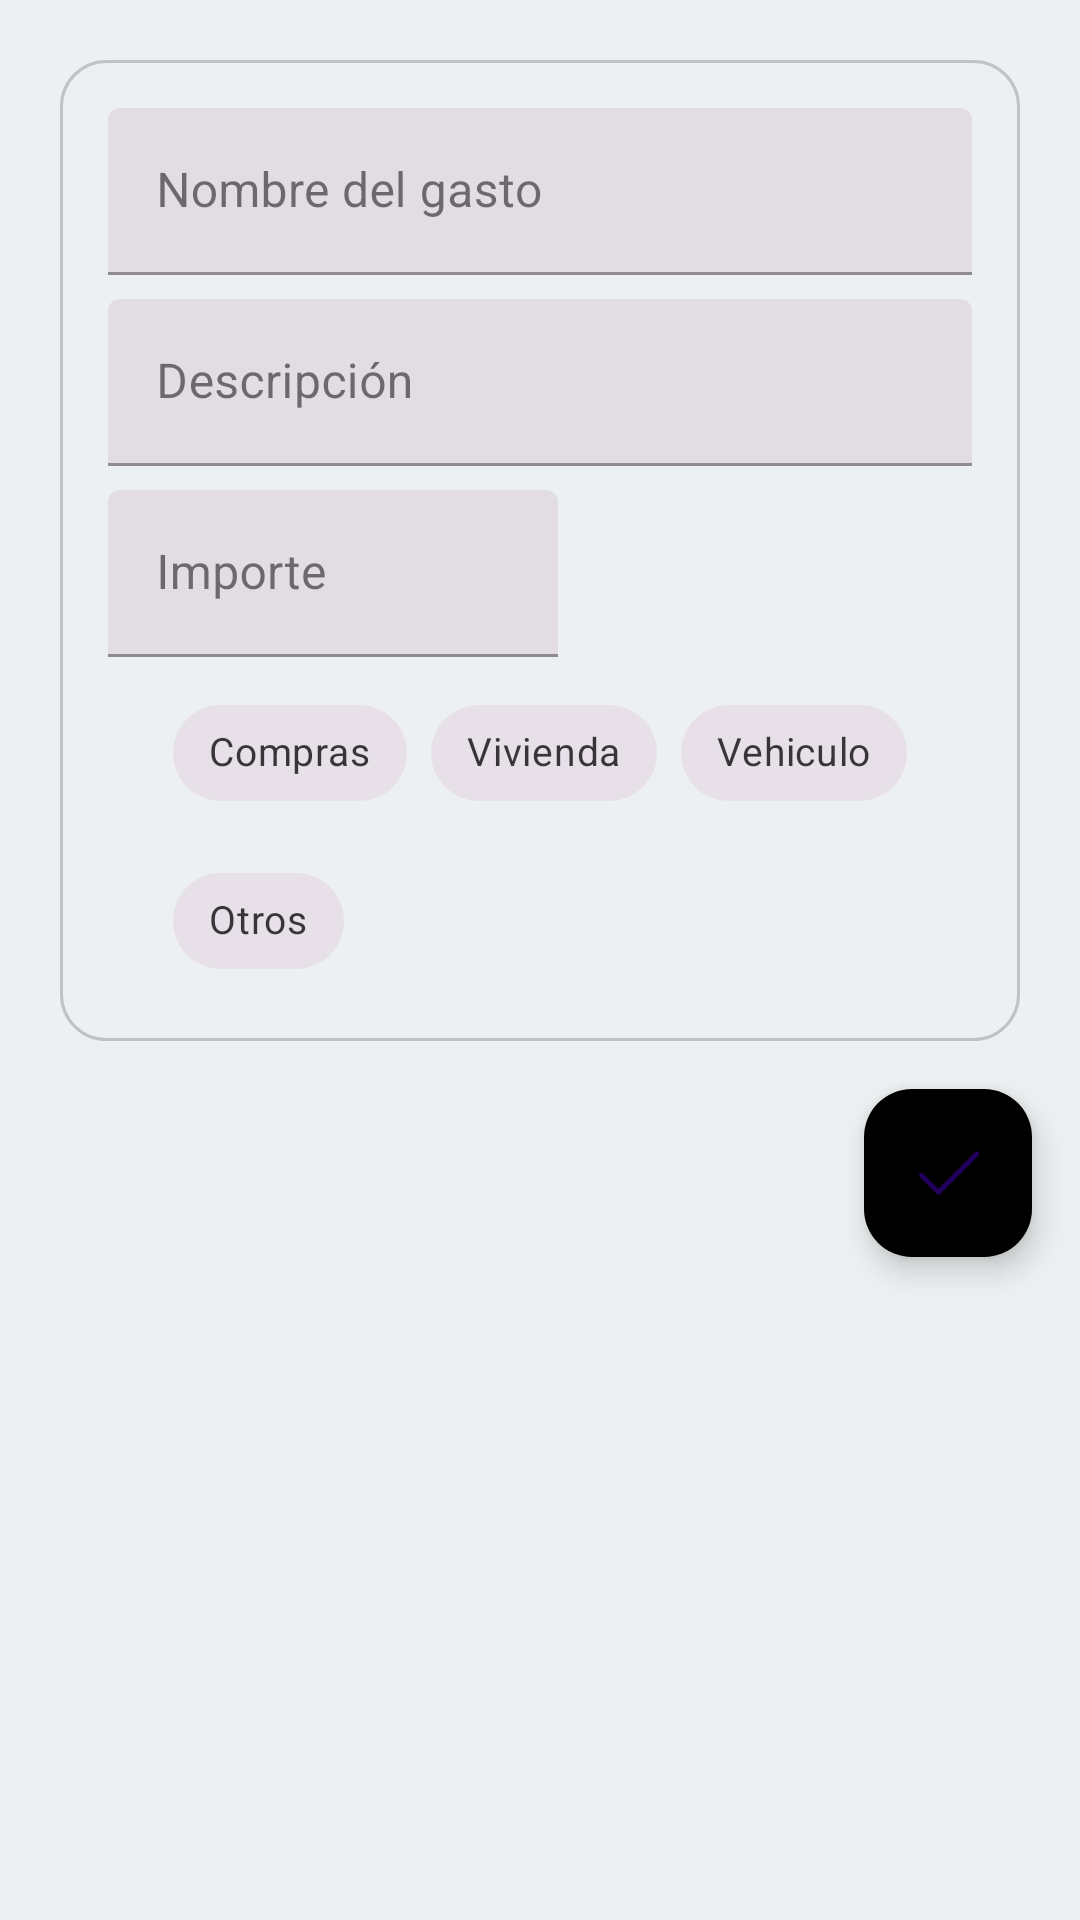

Named icons in this screenshot (1080 x 1920) and their centers, (x=x, y=y):
confirm: (x=948, y=1173)
